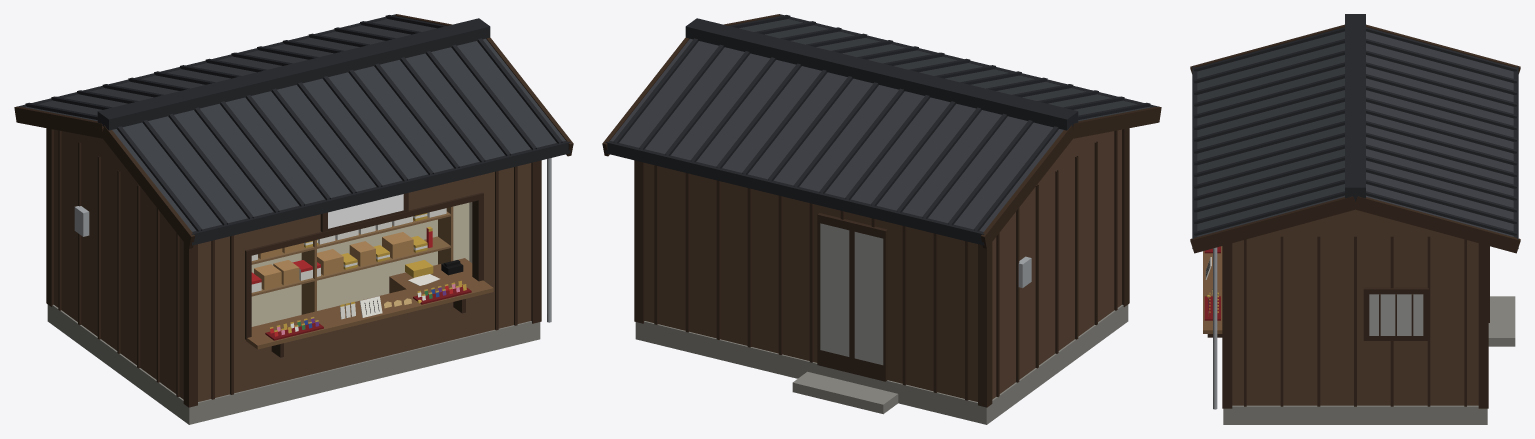
The model's file is shrine_office.glb.
3 renders of one model, left to right at view 1: azimuth 30°, elevation 25°; view 2: azimuth 150°, elevation 25°; view 3: azimuth 270°, elevation 25°, orthographic. The views are drawn at different scales.
Parts seen in each view (by area): view 1: shrine_office, juyosho_sign; view 2: shrine_office; view 3: shrine_office.
Boxes of the visible parts, bbox=[...] form: shrine_office: bbox=[14, 14, 573, 424]; juyosho_sign: bbox=[328, 194, 403, 228]; shrine_office: bbox=[602, 14, 1161, 424]; shrine_office: bbox=[1190, 14, 1520, 424].
Size of the model in its own units: 5.05 by 3.3 by 4.05.
